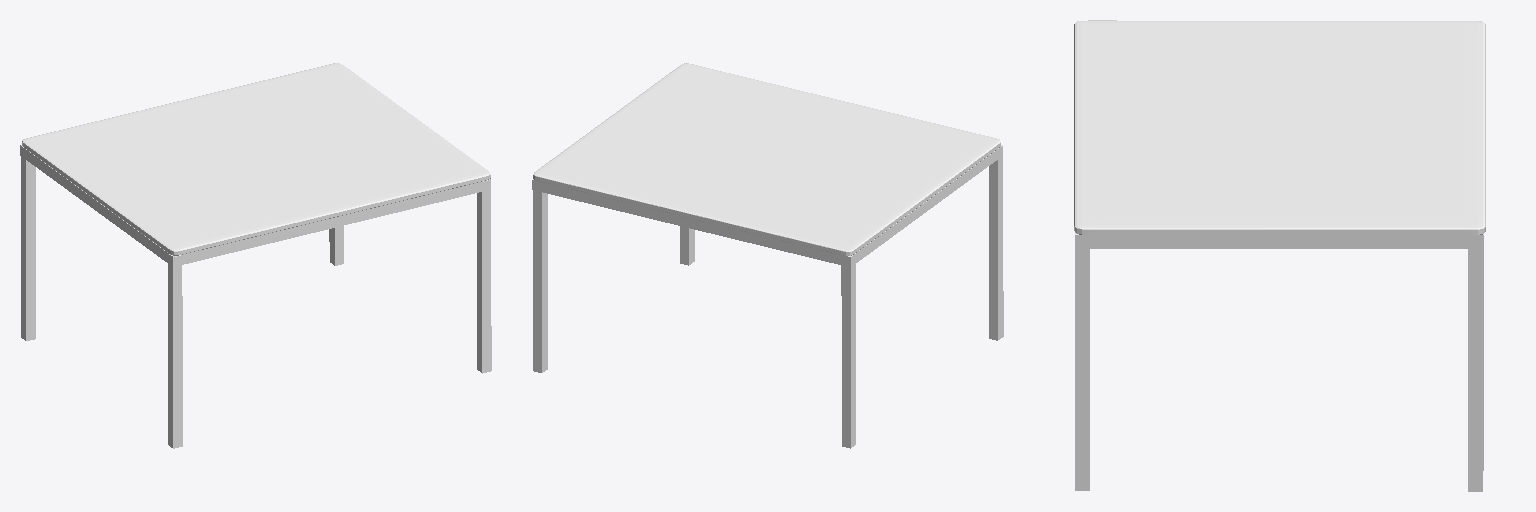
URDF robot description (shelfandtable):
<?xml version="1.0" ?>
<robot name="shelfandtable">
  <link name="shelfandtableLink">
  <contact>
      <lateral_friction value="1"/>
  </contact>
    <inertial>
      <origin rpy="0 0 0" xyz="0 0 0"/>
       <mass value=".0"/>
       <inertia ixx="0" ixy="0" ixz="0" iyy="0" iyz="0" izz="0"/>
    </inertial>
    <visual>
      <origin rpy="1.57 0 0" xyz="0 0 0"/>
      <geometry>
				<mesh filename="untitled.obj" scale="1 1 1"/>
      </geometry>
       <material name="white">
        <color rgba="1 1 1 1"/>
      </material>
    </visual>
    <collision>
      <origin rpy="1.57 0 0" xyz="0 0 0"/>
      <geometry>
		<mesh filename="untitled.obj" scale="1 1 1"/>
      </geometry>
    </collision>
  </link>
</robot>

--- Facts derived from the render (not from the file) ---
Views: 3 orthographic renders of the robot side by side, from view 1: azimuth 30°, elevation 25°; view 2: azimuth 150°, elevation 25°; view 3: azimuth 270°, elevation 25°.
Model shelfandtable with 1 links and 0 joints (none), rooted at shelfandtableLink, posed every joint at zero.
Links seen in each view (by area): view 1: shelfandtableLink; view 2: shelfandtableLink; view 3: shelfandtableLink.
Link boxes in pixels (left/top/right/bottom): shelfandtableLink: left=20, top=63, right=491, bottom=448; shelfandtableLink: left=532, top=63, right=1003, bottom=448; shelfandtableLink: left=1074, top=20, right=1485, bottom=491.
Size in the robot's own frame: 1.2 by 1 by 0.7079 metres.
1 mesh visuals loaded from 1 distinct referenced files (1 OBJ).